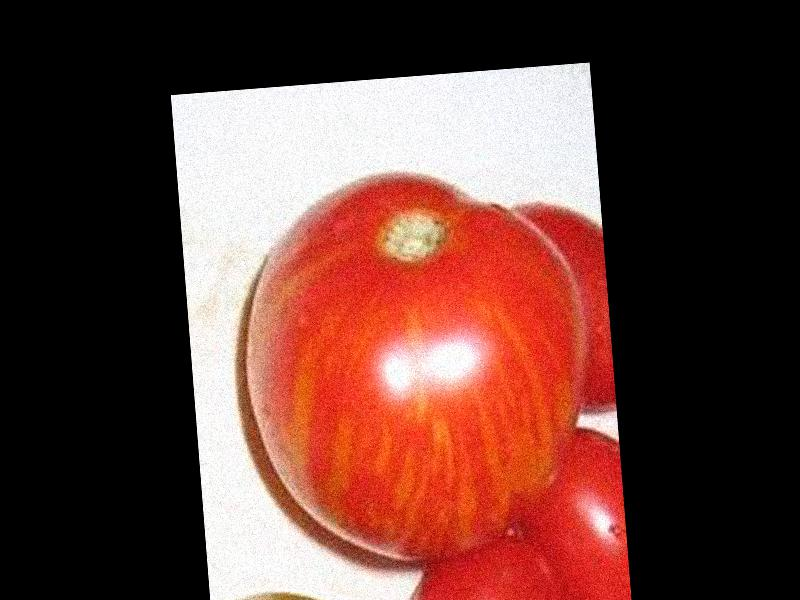Tomato: (231, 153, 604, 576)
